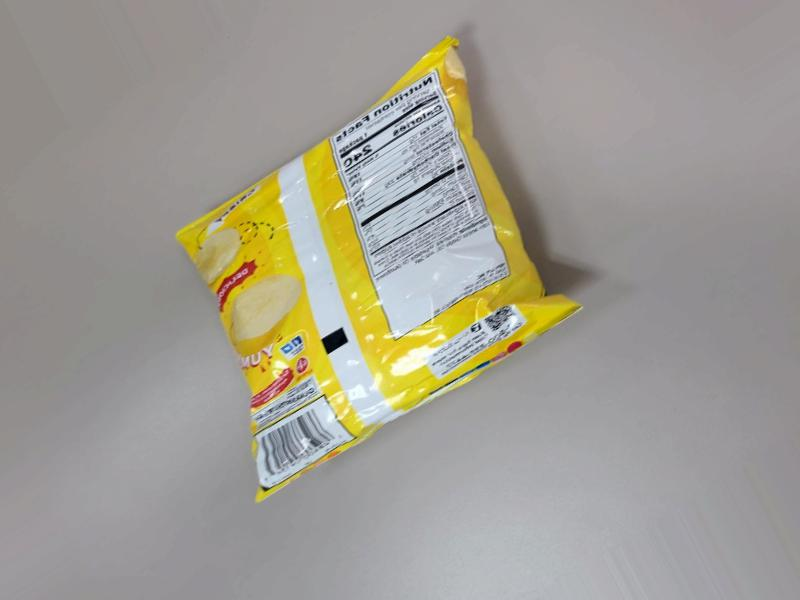lays: (298, 0, 610, 598)
